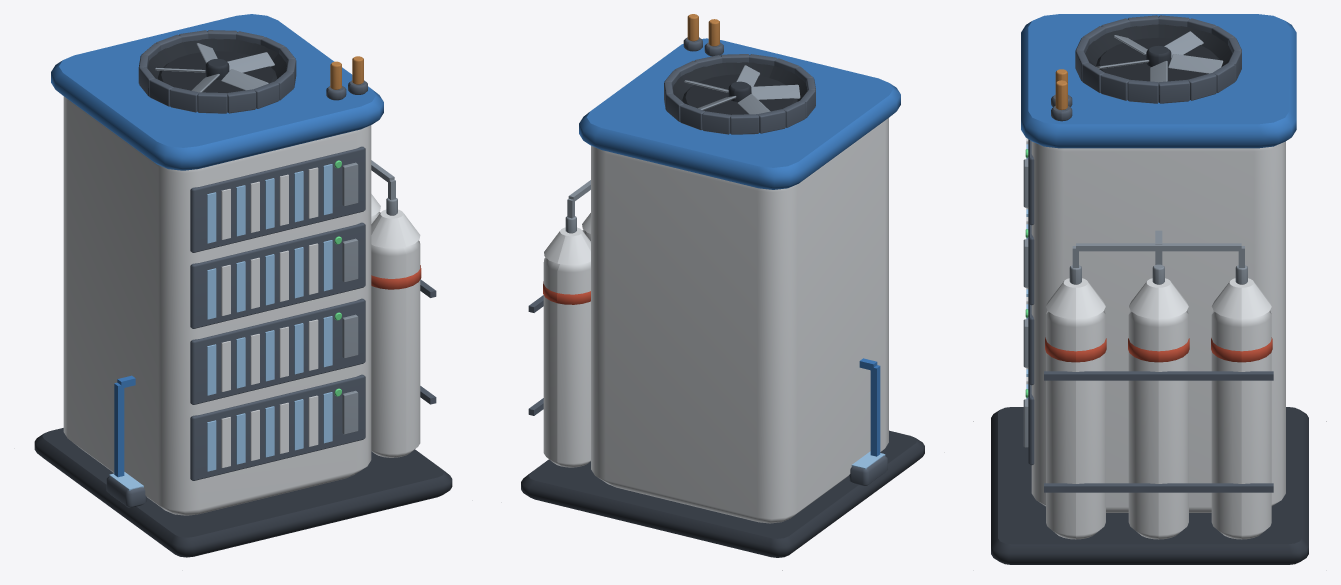
The model's file is pile_combustible.glb.
The picture shows the model from 3 angles, left to right: view 1: azimuth 30°, elevation 25°; view 2: azimuth 150°, elevation 25°; view 3: azimuth 270°, elevation 25°; orthographic projection. The views are drawn at different scales.
Visible parts, largest first — view 1: pieces_av_blanc.004, pieces_av_sombre.006, pieces_av_bleu.004, pieces_av_fonce.008, pieces_av_bleu_clair.002, pieces_av_grille.004, pieces_av_gris.008, helice_pile_av_gris.002, pieces_av_cuivre.004, pieces_av_rouge.002; view 2: pieces_av_blanc.004, pieces_av_bleu.004, pieces_av_fonce.008, pieces_av_sombre.006, pieces_av_grille.004, helice_pile_av_gris.002, pieces_av_cuivre.004; view 3: pieces_av_blanc.004, pieces_av_bleu.004, pieces_av_fonce.008, pieces_av_sombre.006, pieces_av_grille.004, pieces_av_gris.008, pieces_av_rouge.002, helice_pile_av_gris.002, pieces_av_cuivre.004.
Boxes of the visible parts, bbox=[...] form: pieces_av_blanc.004: bbox=[63, 96, 420, 515]; pieces_av_sombre.006: bbox=[106, 30, 436, 507]; pieces_av_bleu.004: bbox=[51, 14, 383, 477]; pieces_av_fonce.008: bbox=[34, 428, 452, 557]; pieces_av_bleu_clair.002: bbox=[109, 164, 332, 490]; pieces_av_grille.004: bbox=[147, 38, 286, 92]; pieces_av_gris.008: bbox=[342, 160, 397, 434]; helice_pile_av_gris.002: bbox=[155, 43, 274, 92]; pieces_av_cuivre.004: bbox=[330, 56, 363, 89]; pieces_av_rouge.002: bbox=[371, 265, 421, 289]; pieces_av_blanc.004: bbox=[543, 118, 888, 523]; pieces_av_bleu.004: bbox=[579, 38, 900, 456]; pieces_av_fonce.008: bbox=[521, 430, 924, 557]; pieces_av_sombre.006: bbox=[528, 37, 887, 485]; pieces_av_grille.004: bbox=[672, 62, 807, 114]; helice_pile_av_gris.002: bbox=[684, 65, 800, 114]; pieces_av_cuivre.004: bbox=[687, 14, 719, 46]; pieces_av_blanc.004: bbox=[1026, 138, 1285, 539]; pieces_av_bleu.004: bbox=[1021, 14, 1296, 148]; pieces_av_fonce.008: bbox=[991, 407, 1308, 564]; pieces_av_sombre.006: bbox=[1028, 15, 1273, 492]; pieces_av_grille.004: bbox=[1085, 24, 1232, 81]; pieces_av_gris.008: bbox=[1023, 159, 1247, 447]; pieces_av_rouge.002: bbox=[1045, 337, 1272, 362]; helice_pile_av_gris.002: bbox=[1096, 31, 1223, 82]; pieces_av_cuivre.004: bbox=[1055, 69, 1067, 110].
Size of the model in its own units: 1 by 1.41 by 1.
